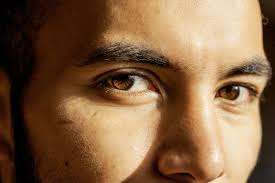e.brown: (113, 74, 136, 90)
